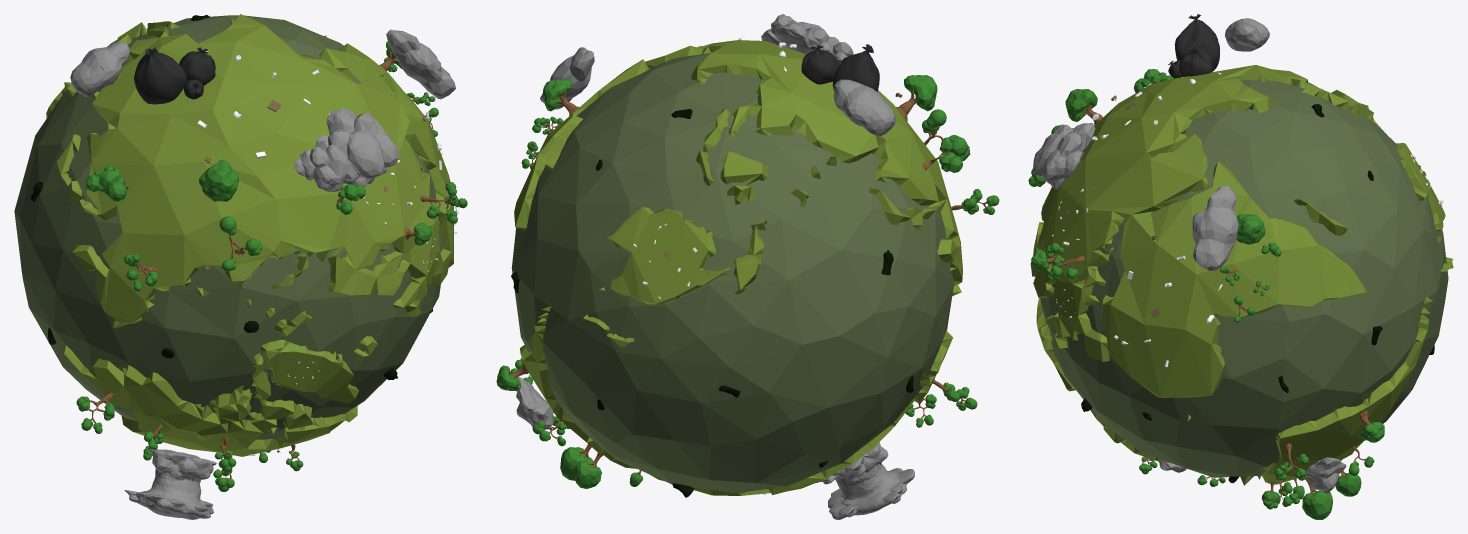
The picture shows the model from 3 angles, left to right: view 1: azimuth 30°, elevation 25°; view 2: azimuth 150°, elevation 25°; view 3: azimuth 270°, elevation 25°; orthographic projection. The views are drawn at different scales.
Visible parts, largest first — view 1: green_good.002; view 2: green_good.002; view 3: green_good.002.
Part boxes in pixels (x1=…): green_good.002: x1=14, y1=14, x2=467, y2=519; green_good.002: x1=496, y1=14, x2=999, y2=519; green_good.002: x1=1028, y1=14, x2=1453, y2=519.
Bounding box in the file's own units: 103 × 116 × 102.
